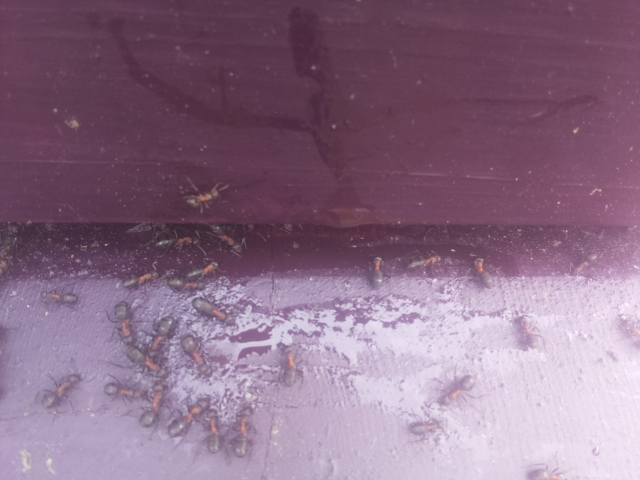ant: (160, 382, 218, 452), (102, 298, 152, 358), (175, 324, 216, 387), (175, 172, 235, 215), (37, 364, 86, 413), (182, 292, 242, 330), (227, 402, 257, 470), (434, 368, 480, 412), (137, 377, 168, 435), (146, 313, 182, 355), (201, 410, 227, 462), (119, 266, 163, 293), (98, 381, 151, 402), (280, 342, 301, 390), (512, 315, 538, 352), (471, 252, 496, 290), (403, 415, 449, 435), (367, 251, 389, 291), (615, 313, 640, 343), (36, 289, 80, 306), (398, 255, 439, 270)
